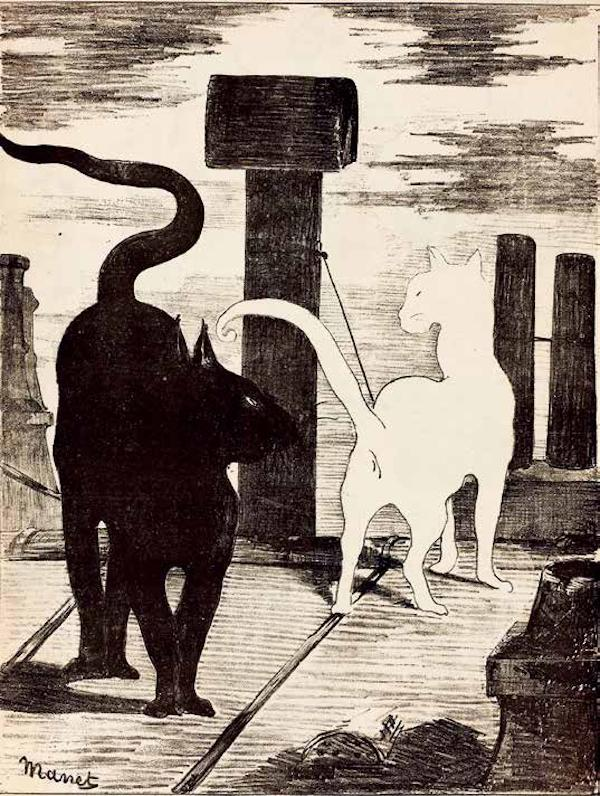animal: (32, 82, 290, 716), (322, 205, 498, 708)
